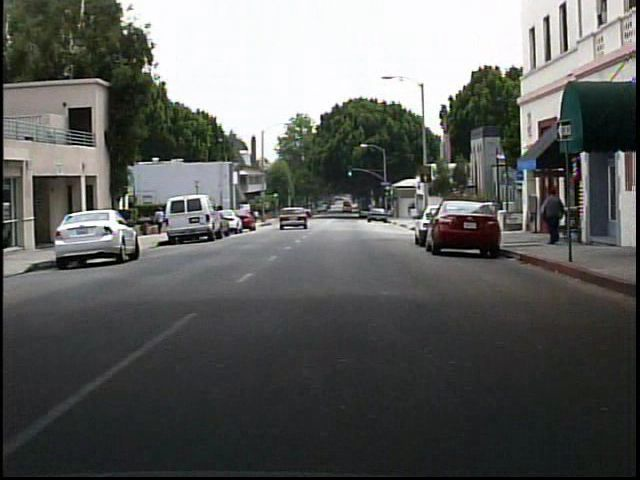person: (534, 186, 568, 251), (153, 203, 168, 234)
